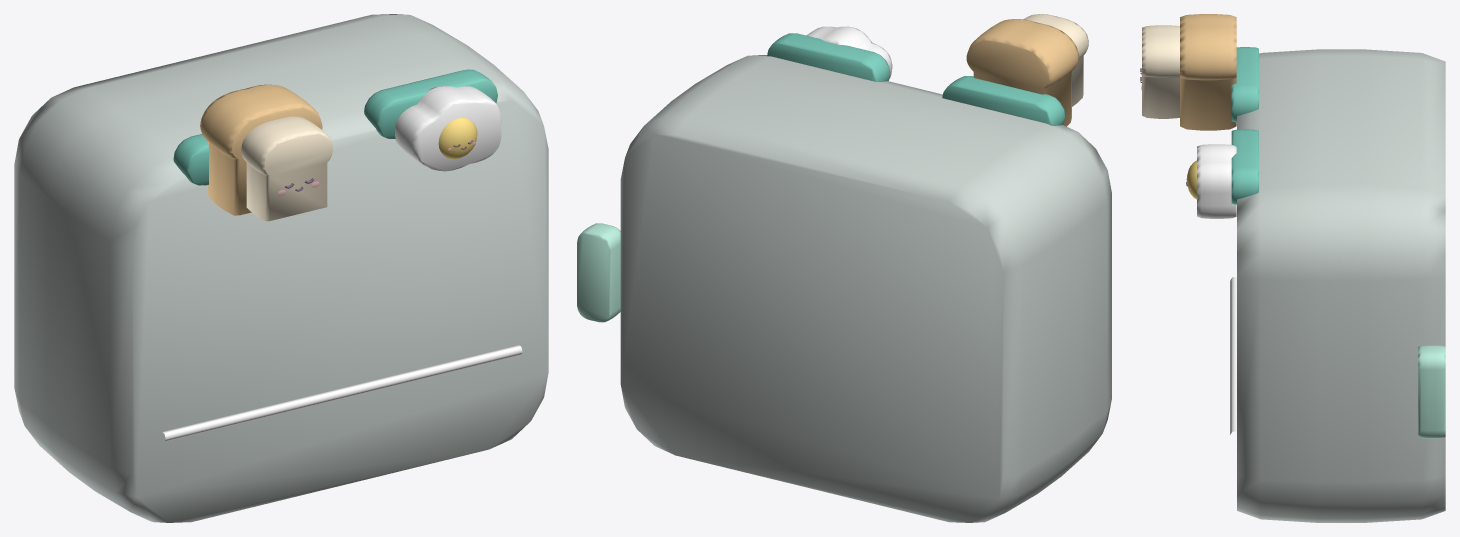
The model's file is decor_2_mint.glb.
3 views of the same model, side by side, from view 1: azimuth 30°, elevation 25°; view 2: azimuth 150°, elevation 25°; view 3: azimuth 270°, elevation 25° (orthographic). The views are drawn at different scales.
Visible parts, largest first — view 1: decor_2_mint; view 2: decor_2_mint; view 3: decor_2_mint.
Boxes of the visible parts, bbox=[...] form: decor_2_mint: bbox=[14, 14, 548, 522]; decor_2_mint: bbox=[577, 14, 1111, 522]; decor_2_mint: bbox=[1140, 14, 1445, 522].
Size of the model in its own units: 16.04 by 14.02 by 10.03.
